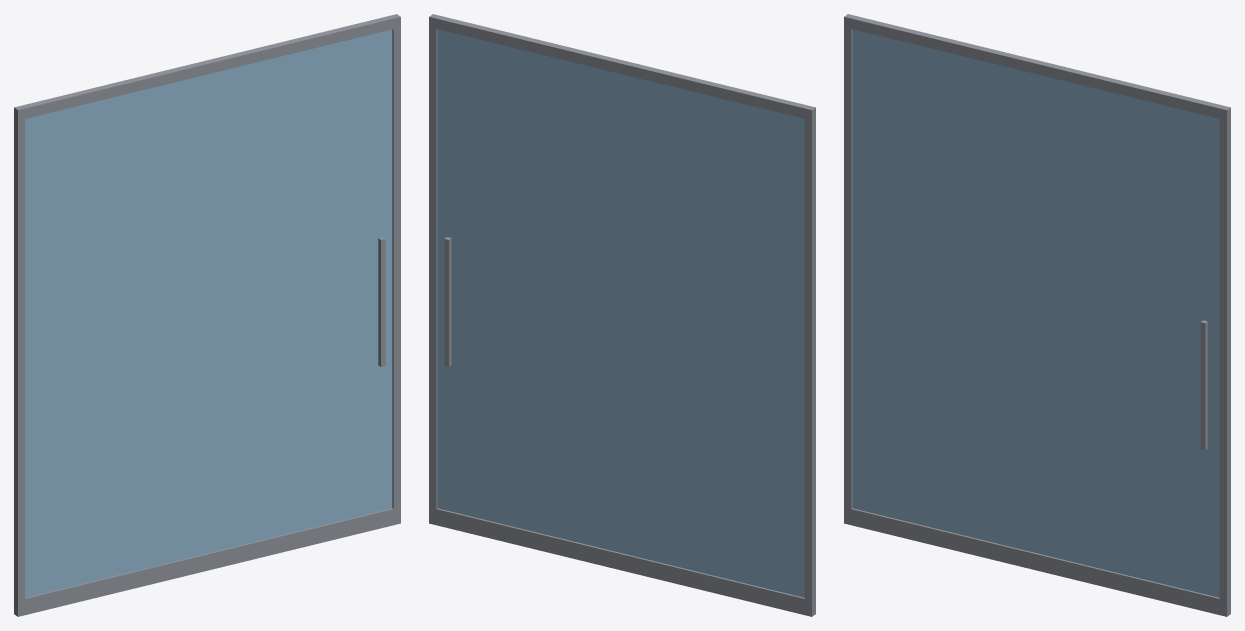
Rendered from SM_Door_glass_285x360.fbx.
The picture shows the model from 3 angles, left to right: view 1: azimuth 30°, elevation 25°; view 2: azimuth 150°, elevation 25°; view 3: azimuth 330°, elevation 25°; orthographic projection.
Visible parts, largest first — view 1: SM_Door_glass_285x360; view 2: SM_Door_glass_285x360; view 3: SM_Door_glass_285x360.
Boxes of the visible parts, box(x1,y1,x2,y2) form: SM_Door_glass_285x360: box(14, 14, 400, 616); SM_Door_glass_285x360: box(429, 14, 815, 616); SM_Door_glass_285x360: box(844, 14, 1230, 616).
Bounding box in the file's own units: 2.84 × 3.59 × 0.135.
